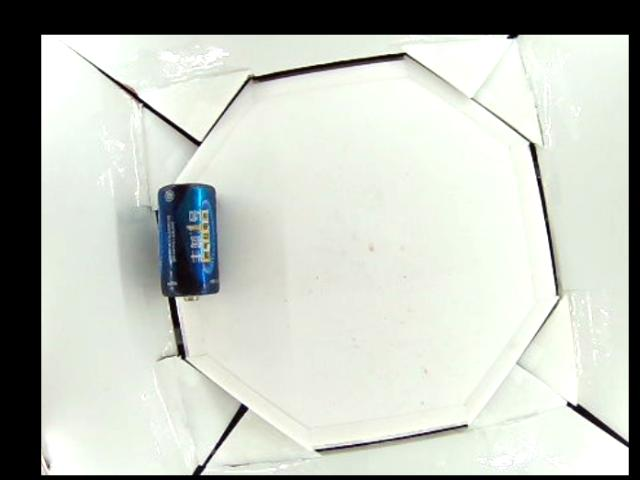Battery: (159, 182, 217, 304)
